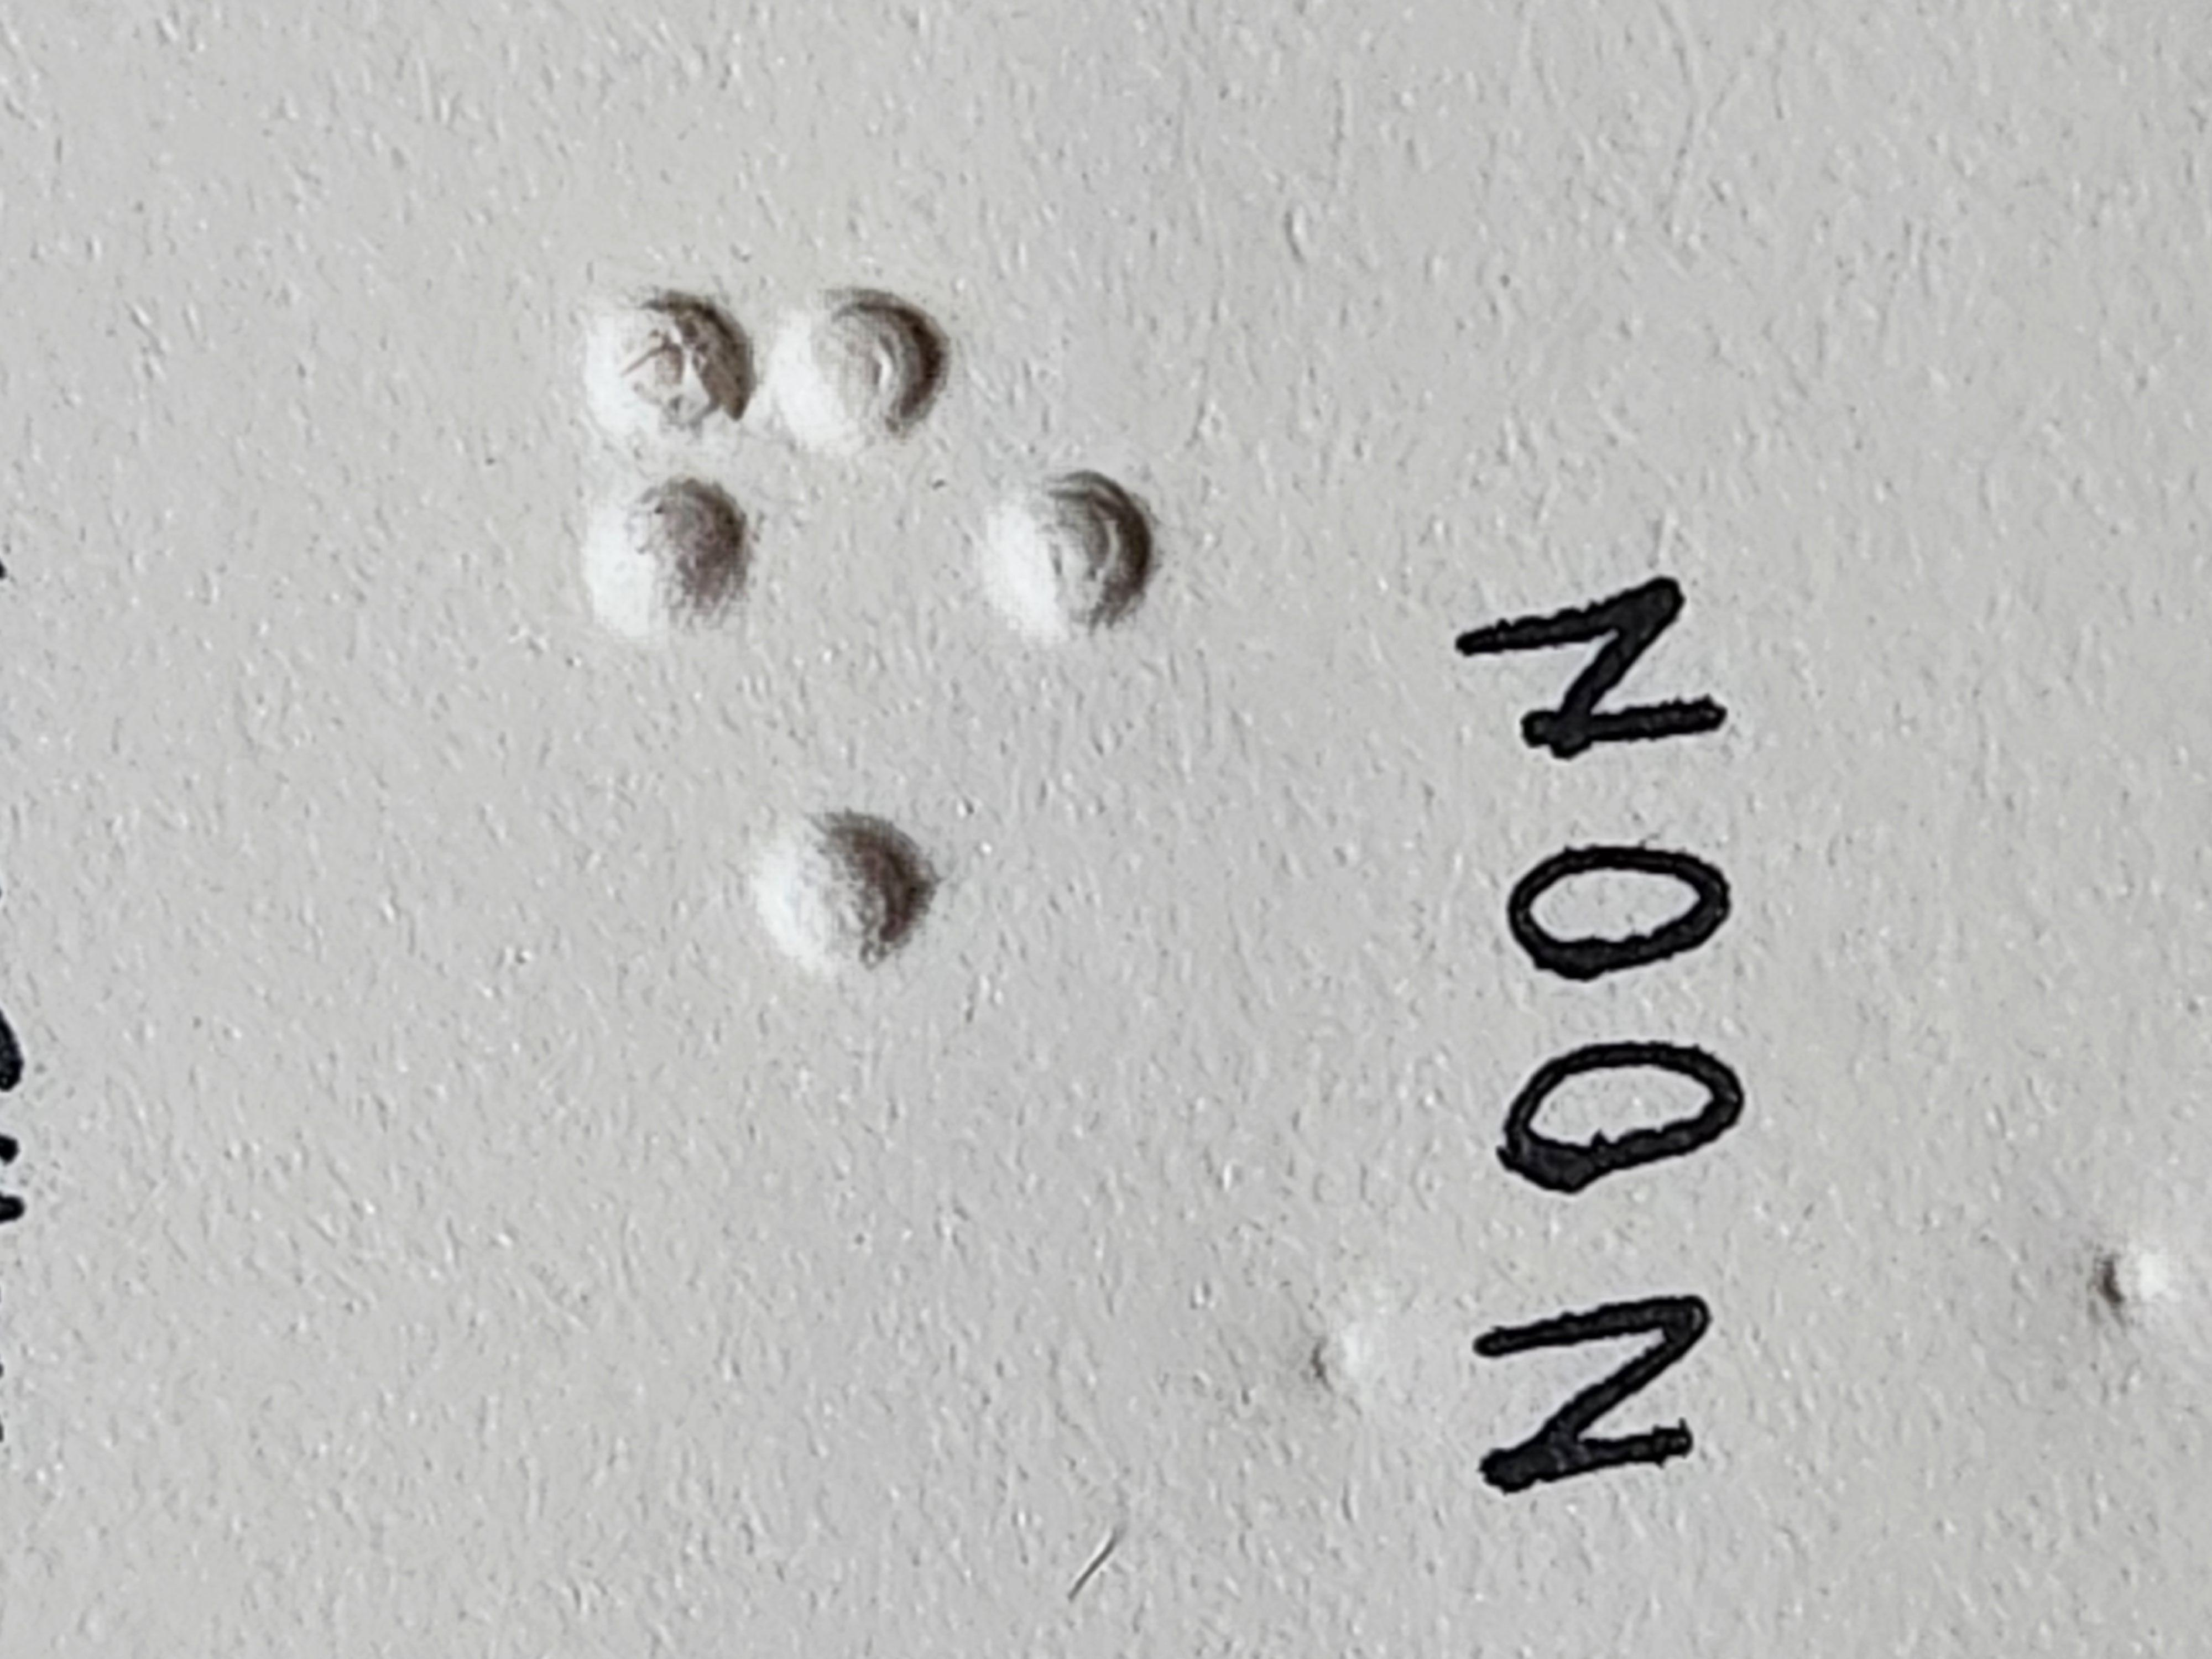dot_5: (669, 436, 1144, 868)
two_cell_alphabet_noon: (1366, 436, 1841, 868)
